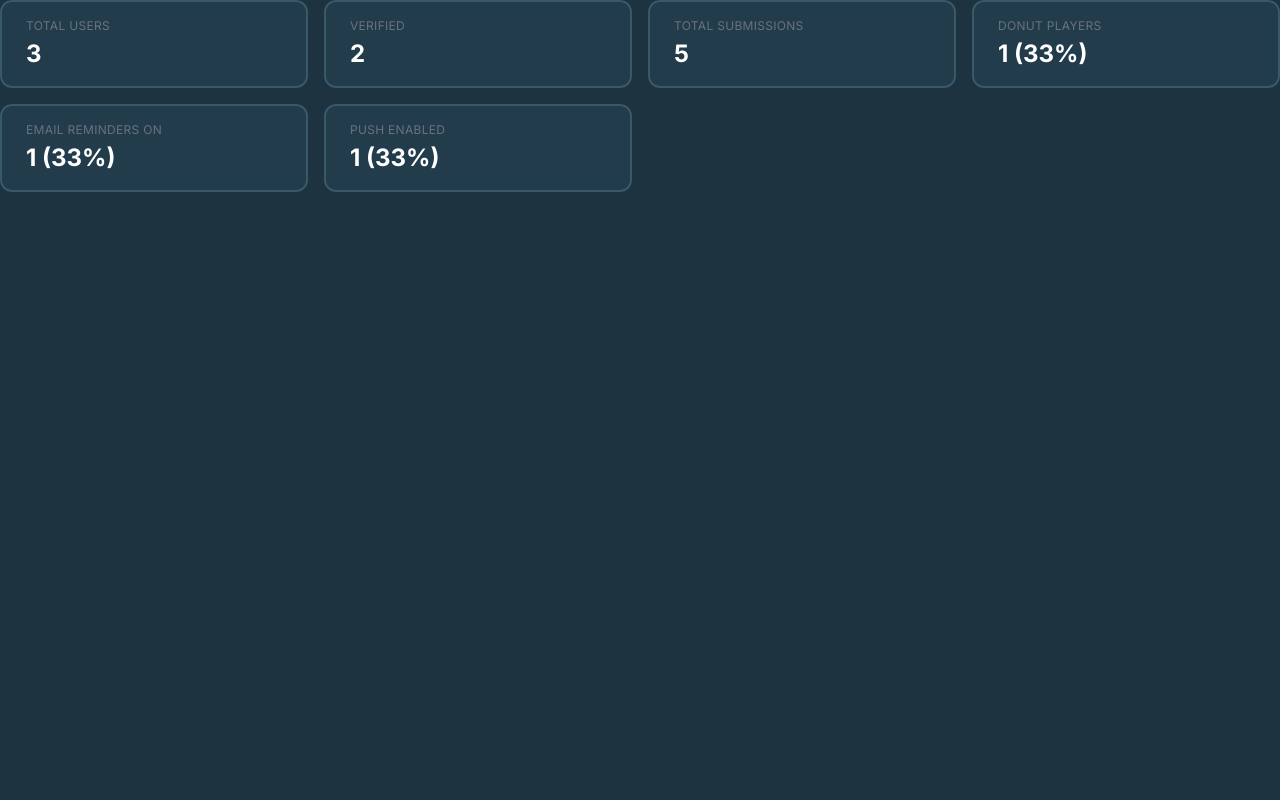
Scenario: usage › the Verified tile opens a filtered user list
Click the button "Verified 2" at point(478, 44), box [324,0,632,88]
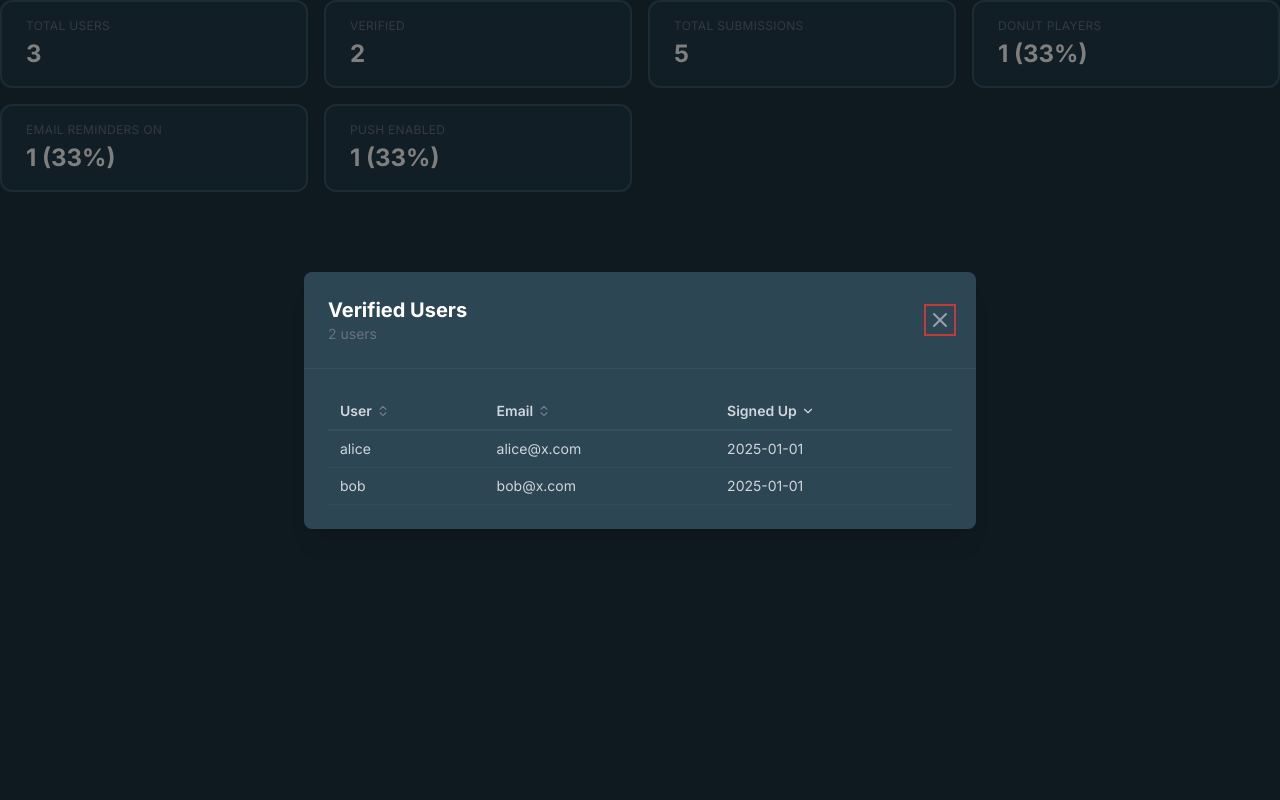
Expected: the heading "Verified Users" is shown, [328,296,467,324]
